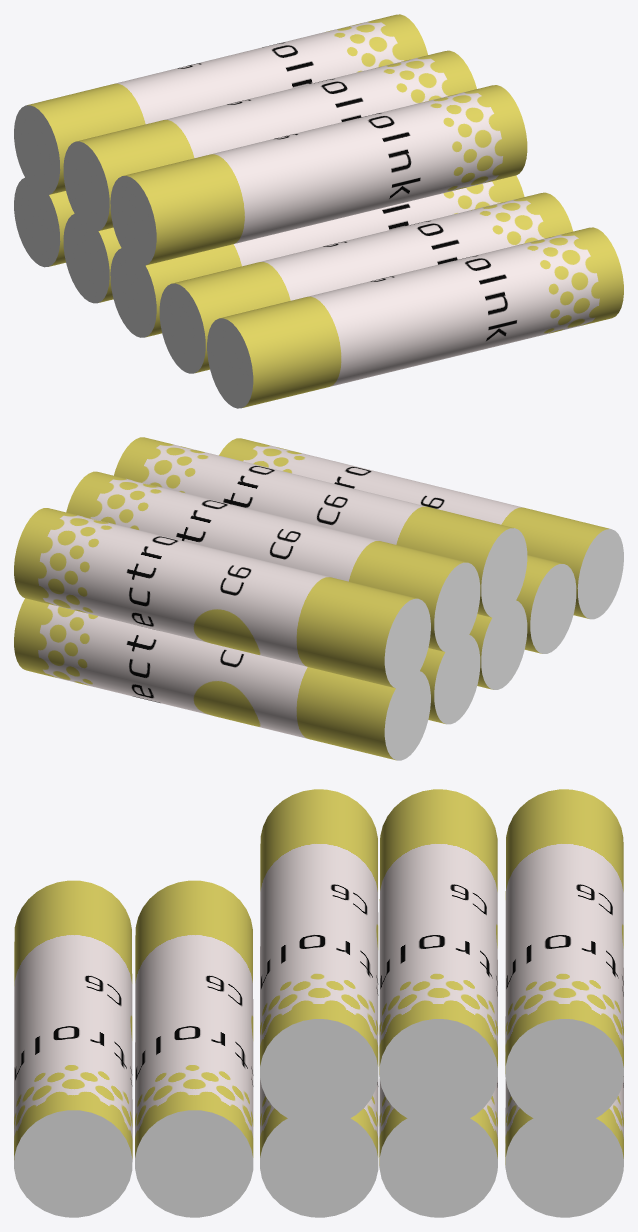
The model's file is YInks.fbx.
The picture shows the model from 3 angles, top to bottom: view 1: azimuth 30°, elevation 25°; view 2: azimuth 150°, elevation 25°; view 3: azimuth 270°, elevation 25°; orthographic projection. The views are drawn at different scales.
Parts seen in each view (by area): view 1: C6Color; view 2: C6Color; view 3: C6Color.
Part boxes in pixels (bbox=[...]): C6Color: bbox=[14, 14, 623, 408]; C6Color: bbox=[14, 437, 623, 760]; C6Color: bbox=[14, 789, 623, 1217].
Size of the model in its own units: 61.5 by 24.76 by 68.9.
